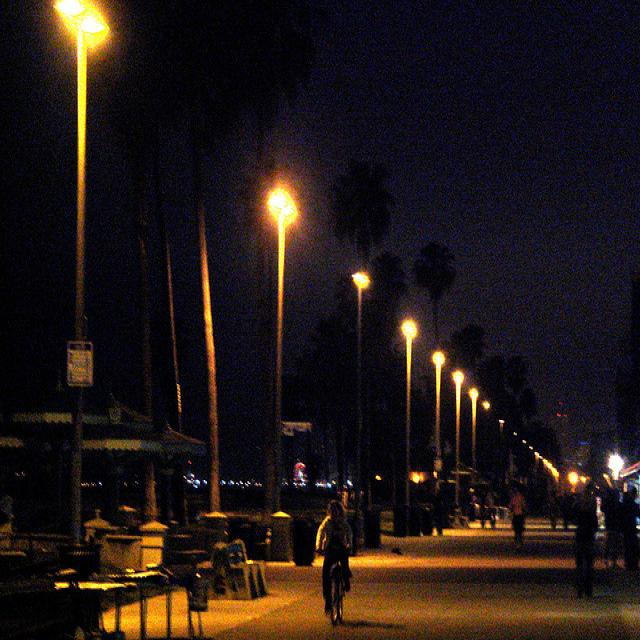Bicycle: (307, 559, 388, 624)
People: (562, 467, 597, 640), (498, 476, 543, 570), (301, 494, 355, 566)
